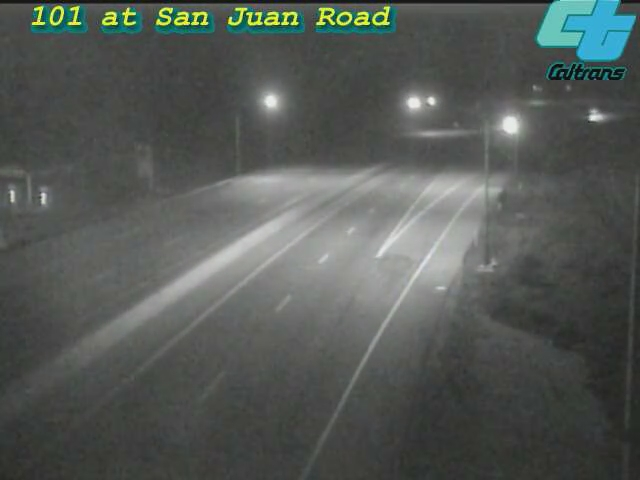vehicle: (572, 90, 622, 140), (484, 100, 534, 150)
